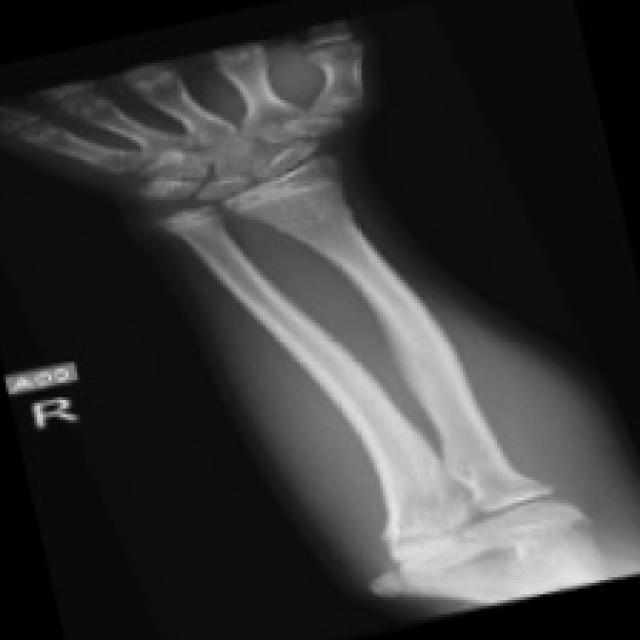fracture: (366, 277, 492, 448)
